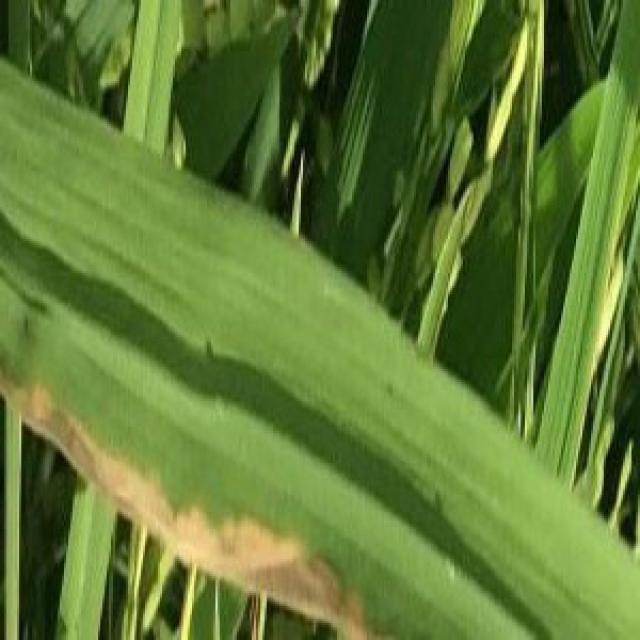Bacterial_Blight: (0, 373, 405, 637)
